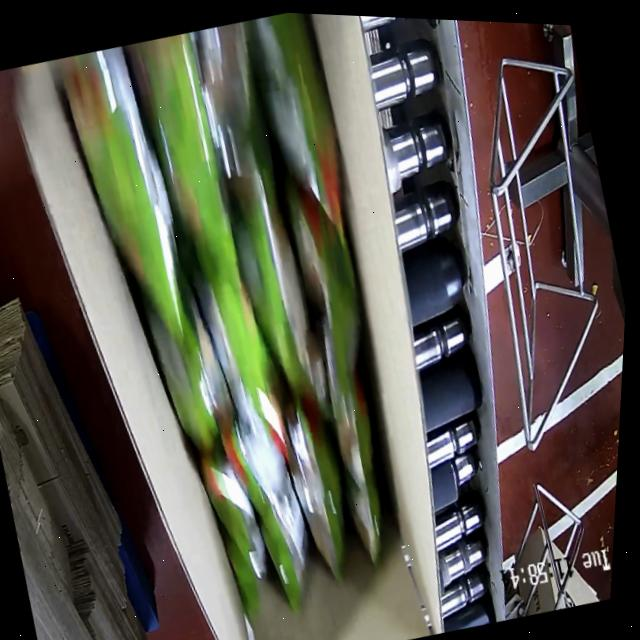YOGURT_HERB: (39, 3, 441, 639)
